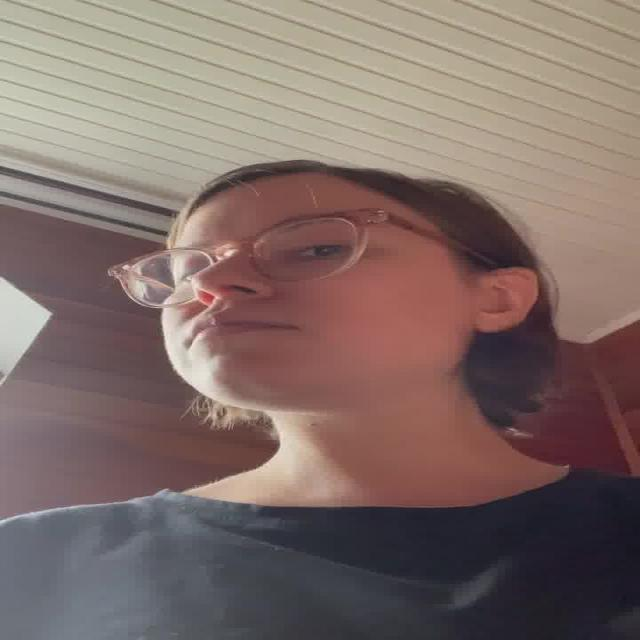earlobe: (474, 267, 540, 334)
